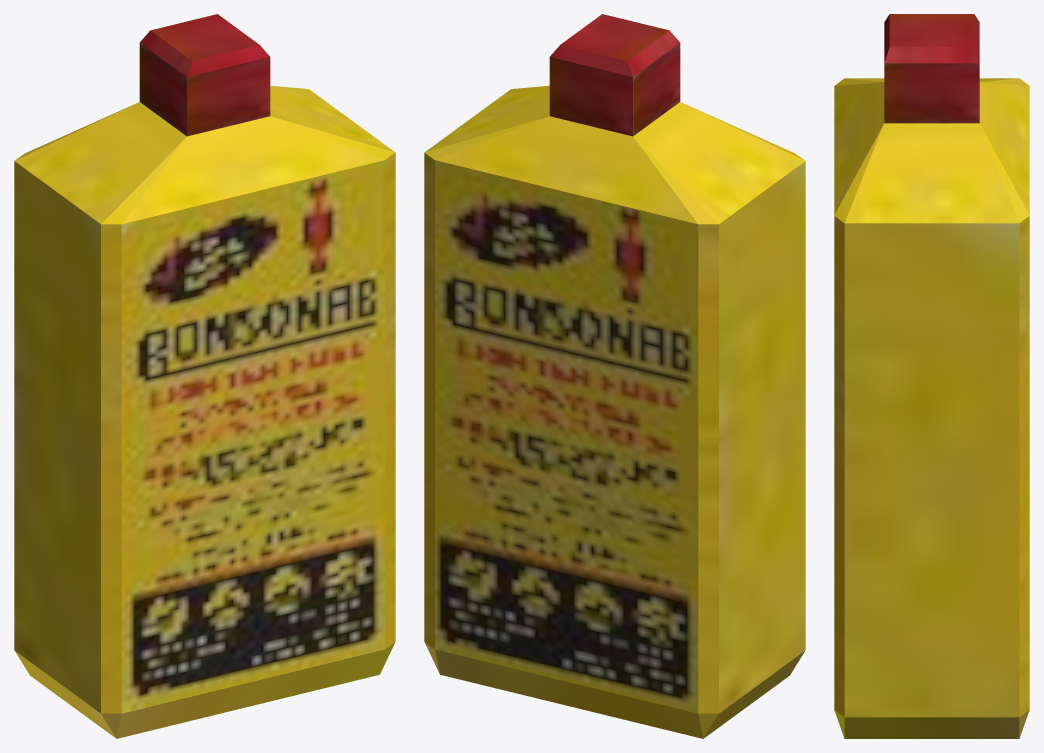
Rendered from lighterfluid.fbx.
3 views of the same model, side by side, from view 1: azimuth 30°, elevation 25°; view 2: azimuth 150°, elevation 25°; view 3: azimuth 270°, elevation 25° (orthographic).
Parts seen in each view (by area): view 1: Lighterfluid; view 2: Lighterfluid; view 3: Lighterfluid.
Boxes of the visible parts, x1=… form: Lighterfluid: x1=14, y1=14, x2=395, y2=738; Lighterfluid: x1=424, y1=14, x2=805, y2=738; Lighterfluid: x1=834, y1=14, x2=1029, y2=738.
Size of the model in its own units: 19.33 by 39.99 by 11.02.
